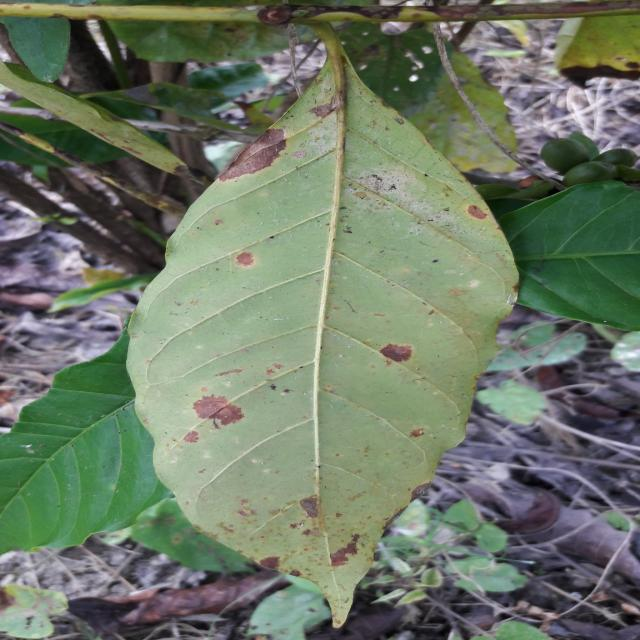Plaga-AranaRoja: (124, 59, 521, 627)
